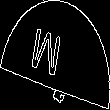M_S: (37, 25, 73, 85)
